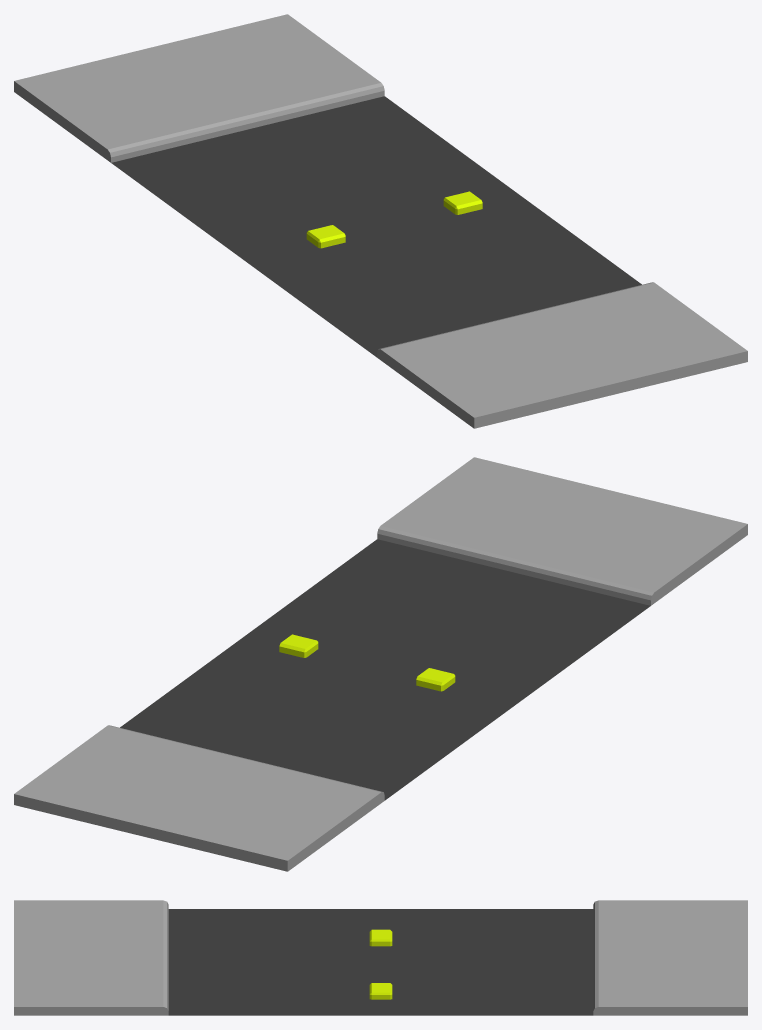
File: Street_UV.fbx
The picture shows the model from 3 angles, top to bottom: view 1: azimuth 30°, elevation 25°; view 2: azimuth 150°, elevation 25°; view 3: azimuth 270°, elevation 25°; orthographic projection. The views are drawn at different scales.
Parts seen in each view (by area): view 1: pCube117; view 2: pCube117; view 3: pCube117.
Boxes of the visible parts, box(x1,y1,x2,y2) form: pCube117: box(14, 14, 747, 428); pCube117: box(14, 457, 747, 871); pCube117: box(14, 900, 747, 1015).
Size of the model in its own units: 522 by 35 by 1521.
